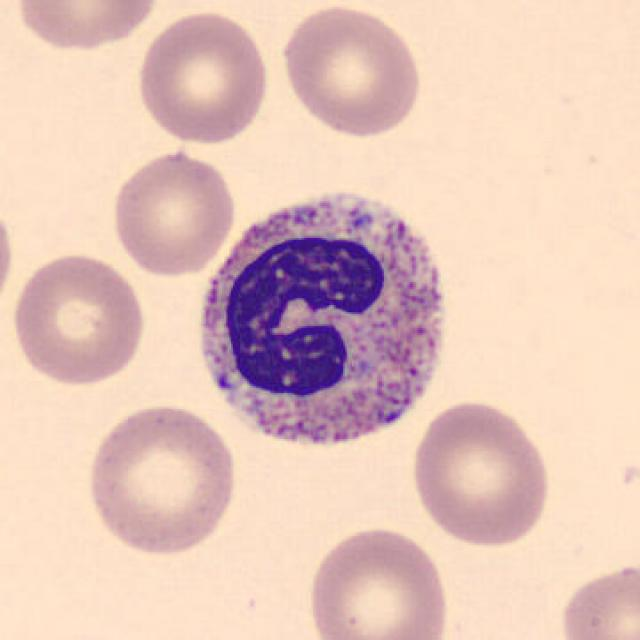Neutrophil: (185, 174, 464, 470)
RBC: (82, 398, 242, 560), (407, 397, 555, 550), (276, 2, 426, 141), (132, 5, 274, 148), (7, 248, 149, 389), (302, 522, 453, 640), (107, 148, 238, 279), (10, 0, 164, 53), (555, 559, 638, 640), (0, 190, 18, 322)
